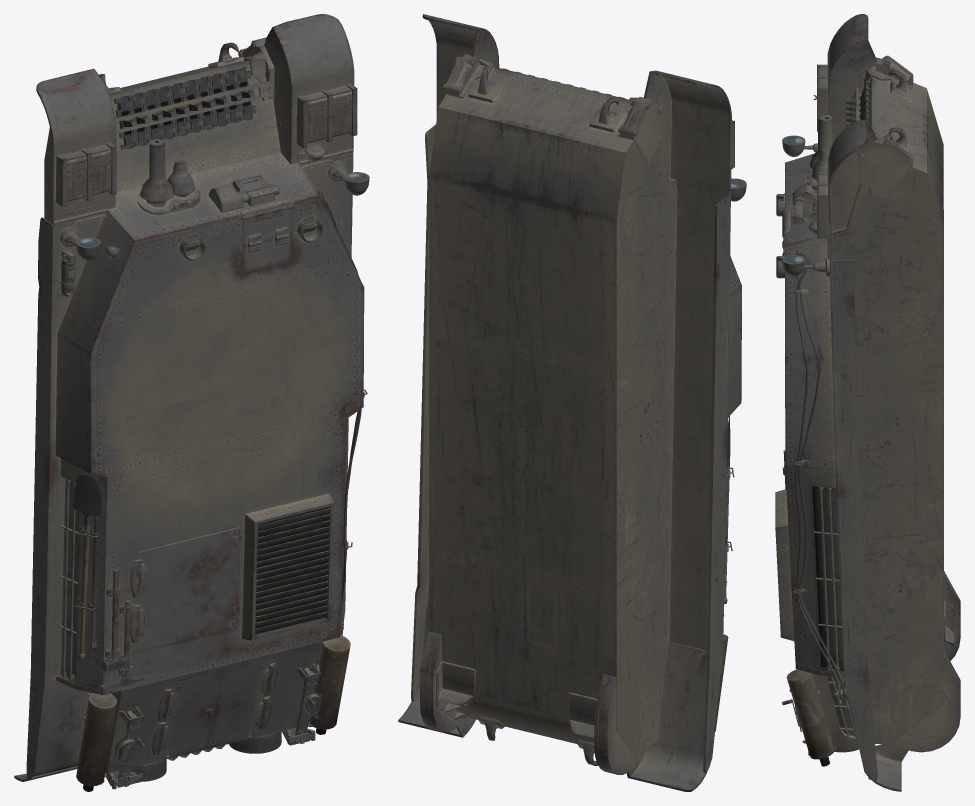
The model's file is Hull.glb.
3 views of the same model, side by side, from view 1: azimuth 30°, elevation 25°; view 2: azimuth 150°, elevation 25°; view 3: azimuth 270°, elevation 25° (orthographic). The views are drawn at different scales.
Parts seen in each view (by area): view 1: set_0_group_0; view 2: set_0_group_0; view 3: set_0_group_0.
Part boxes in pixels (bbox=[...]): set_0_group_0: bbox=[14, 14, 369, 791]; set_0_group_0: bbox=[398, 14, 746, 791]; set_0_group_0: bbox=[775, 14, 960, 791].
Size of the model in its own units: 2.44 by 5.5 by 1.43.
1 material, 1 textured.
